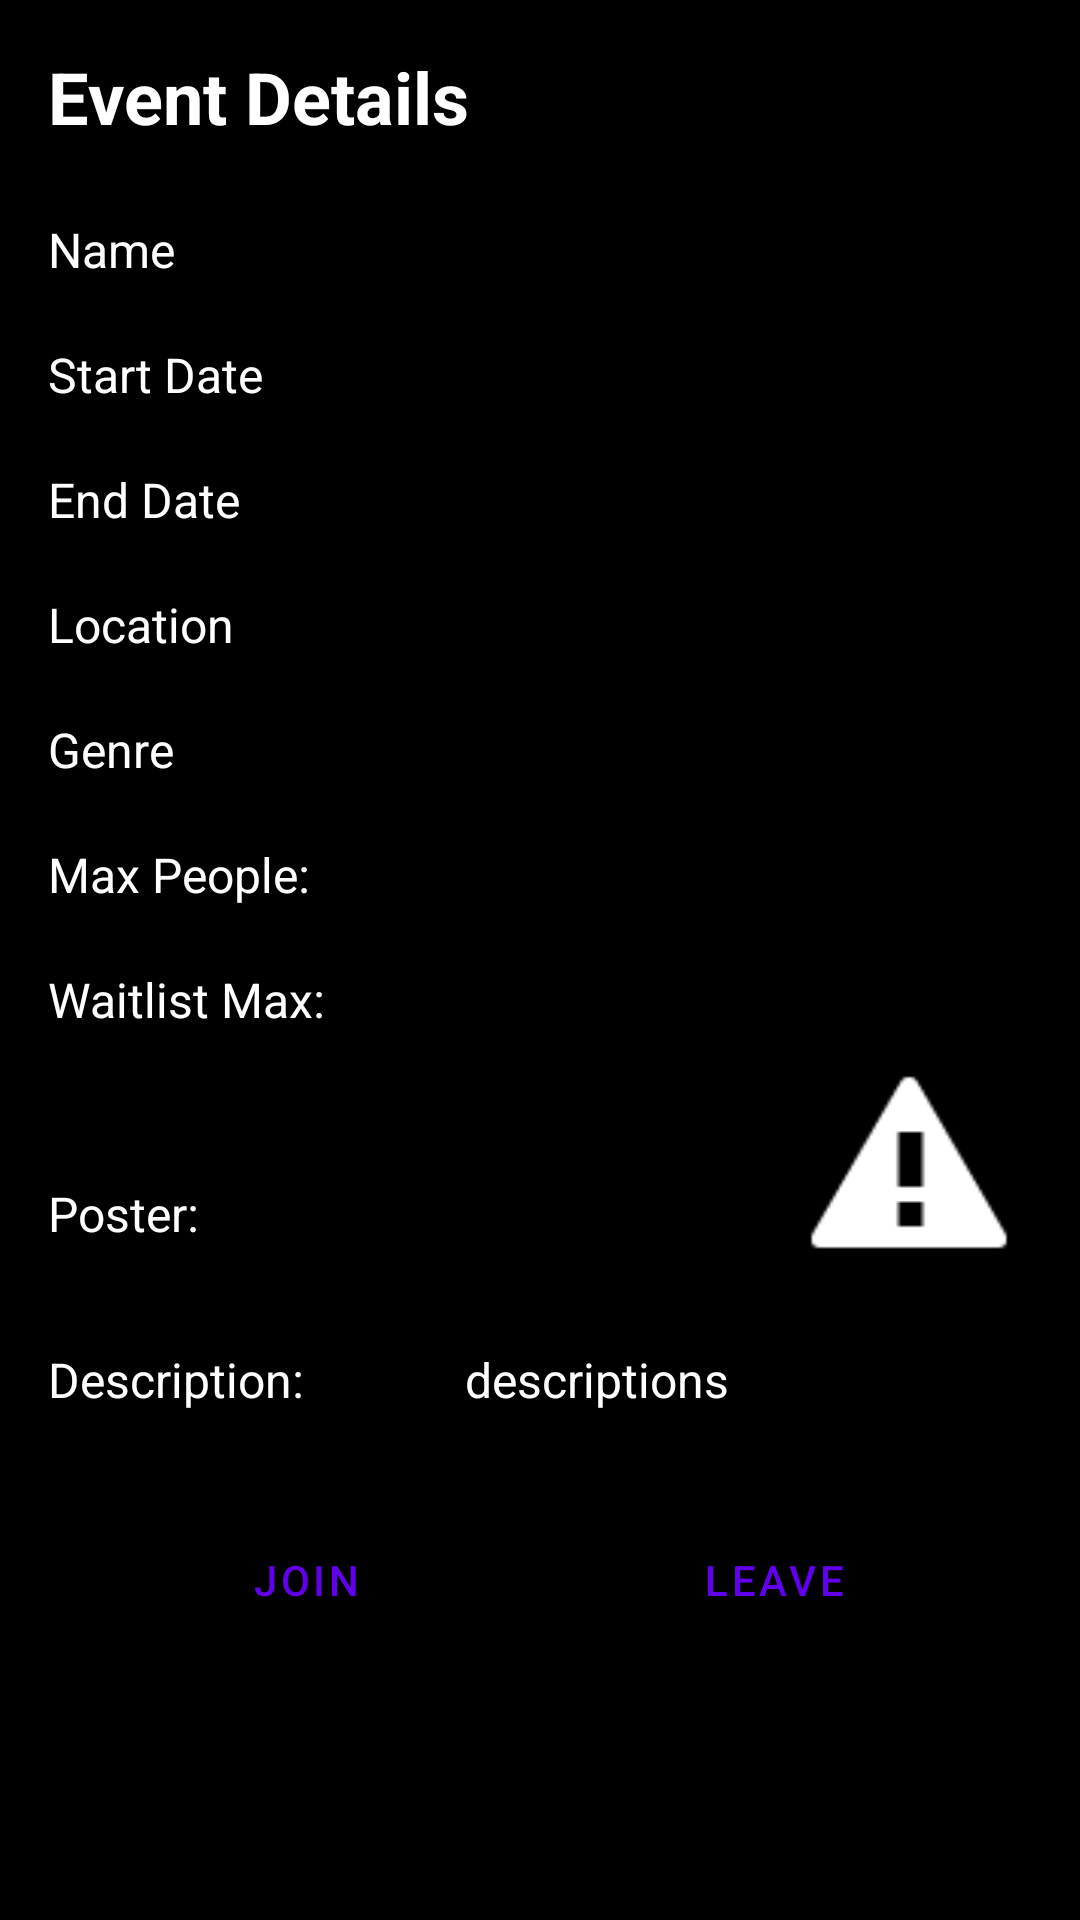

Point at icon controls on the screen. Image size 1080*1920, points as (x=x, y=y).
error: (x=909, y=1162)
